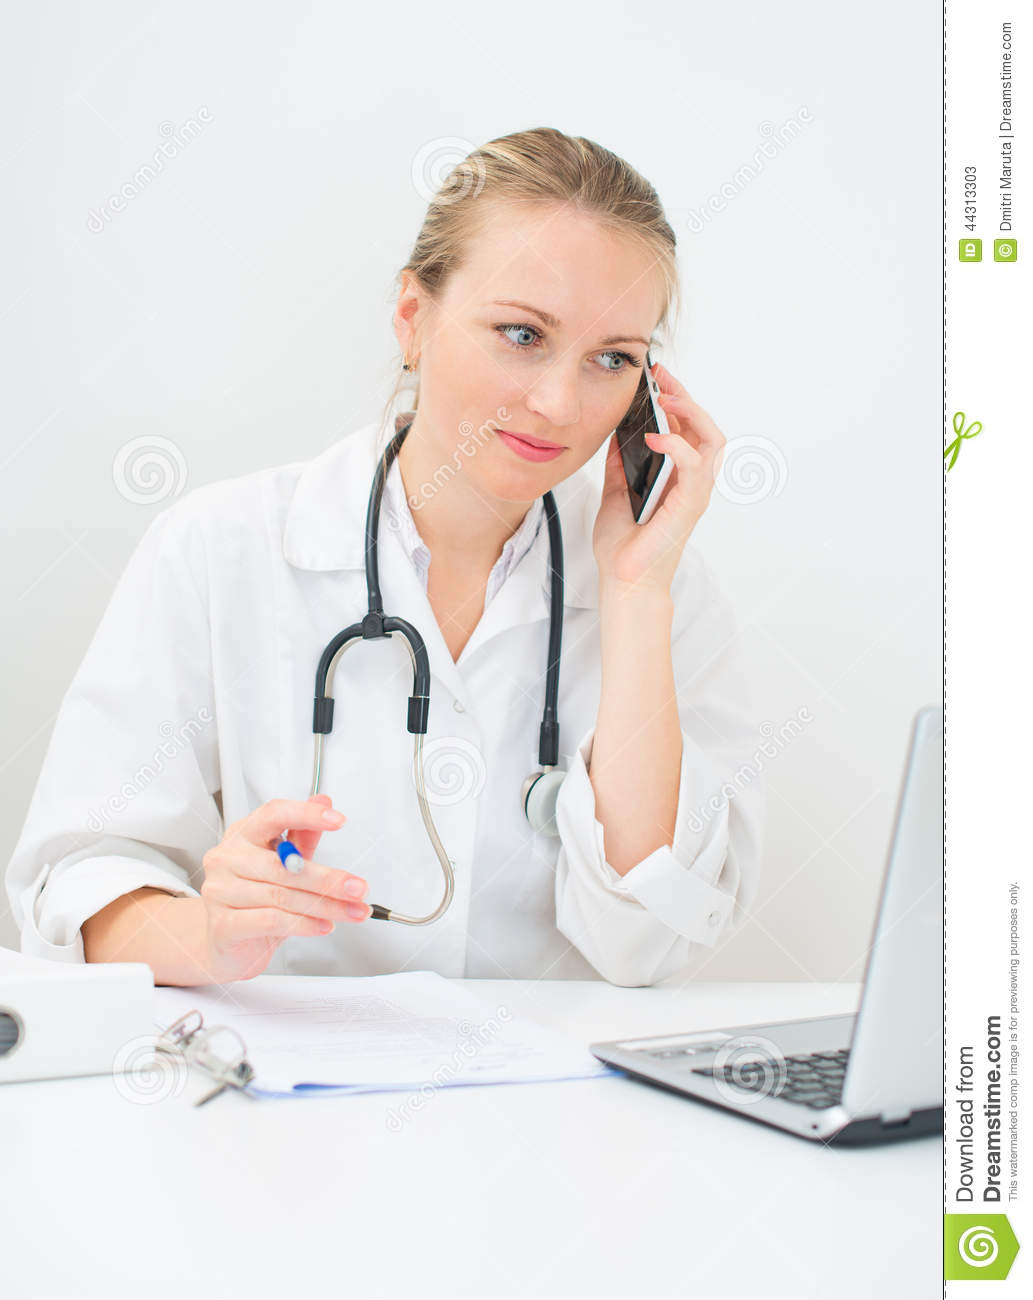phone: (607, 357, 680, 525)
talk: (447, 281, 727, 624)
